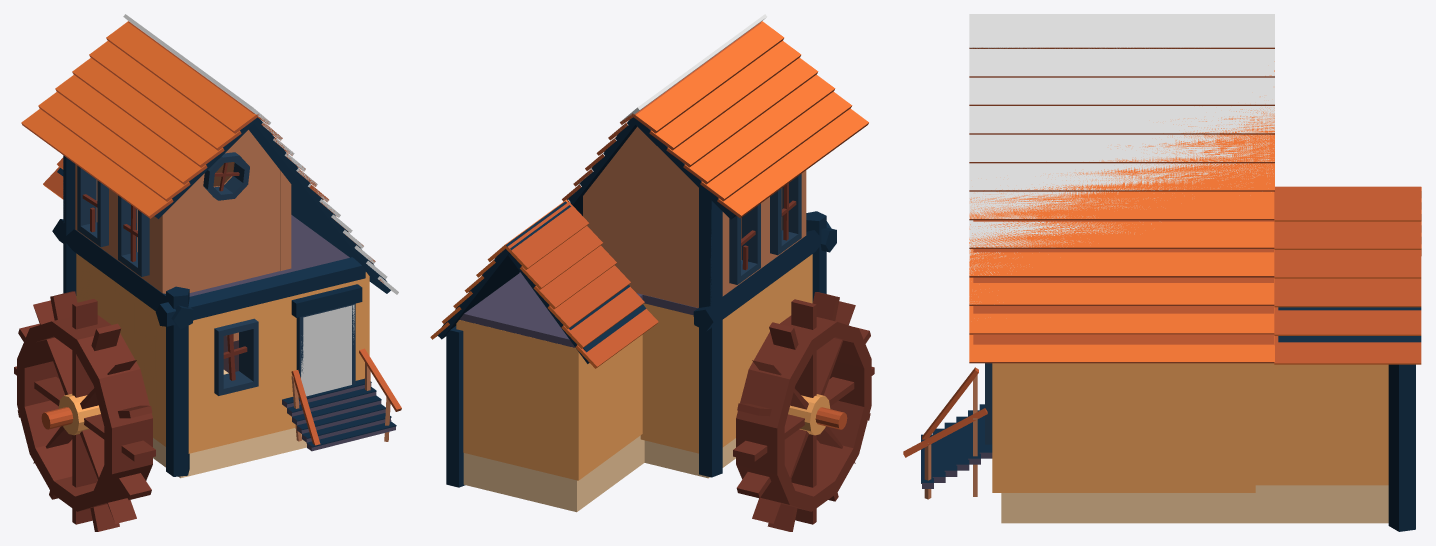
The model's file is House4.fbx.
3 renders of one model, left to right at view 1: azimuth 30°, elevation 25°; view 2: azimuth 150°, elevation 25°; view 3: azimuth 270°, elevation 25°, orthographic. The views are drawn at different scales.
Visible parts, largest first — view 1: Cube.026, Cylinder, Cube.025, Cylinder.009, Cube.002, Cube.011, Cube, Stairs, Cube.028, Cube.007, Cube.013, Cube.024 (+12 smaller); view 2: Cube.026, Cube.019, Cylinder, Cube.025, Cube.034, Cylinder.009, Cube.001, Cube.013, Cube.011, Cube, Cube.017, Cube.023 (+11 smaller); view 3: Cube.028, Cube.030, Cube, Cube.032, Cube.018, Cube.013, Cylinder.010, Stairs, Cube.031, Cube.006, Cube.003, Cube.005.
Part boxes in pixels (<box>): Cube.026: <box>21,21,258,218</box>; Cylinder: <box>17,291,152,531</box>; Cube.025: <box>75,130,291,293</box>; Cylinder.009: <box>52,155,365,476</box>; Cube.002: <box>189,280,358,453</box>; Cube.011: <box>14,299,155,524</box>; Cube: <box>76,253,369,453</box>; Stairs: <box>282,378,396,451</box>; Cube.028: <box>128,21,390,293</box>; Cube.007: <box>301,304,354,396</box>; Cube.013: <box>153,370,306,478</box>; Cube.024: <box>214,318,258,395</box>; Cube.026: <box>633,21,868,218</box>; Cube.019: <box>456,320,584,480</box>; Cylinder: <box>736,292,871,531</box>; Cube.025: <box>583,126,806,307</box>; Cube.034: <box>506,202,658,368</box>; Cylinder.009: <box>693,188,836,477</box>; Cube.001: <box>640,303,698,453</box>; Cube.013: <box>463,435,735,512</box>; Cube.011: <box>733,299,874,524</box>; Cube: <box>722,254,812,447</box>; Cube.017: <box>584,334,642,475</box>; Cube.023: <box>459,272,697,347</box>; Cube.028: <box>969,47,1274,363</box>; Cube.030: <box>969,14,1274,303</box>; Cube: <box>992,363,1255,492</box>; Cube.032: <box>1274,186,1421,364</box>; Cube.018: <box>1255,363,1388,485</box>; Cube.013: <box>1001,485,1388,523</box>; Cylinder.010: <box>1388,364,1415,531</box>; Stairs: <box>921,404,992,488</box>; Cube.031: <box>1278,307,1421,342</box>; Cube.006: <box>903,408,987,457</box>; Cube.003: <box>985,363,992,444</box>; Cube.005: <box>922,367,978,439</box>.
Bounding box in the file's own units: 2655 × 3819 × 3454.
